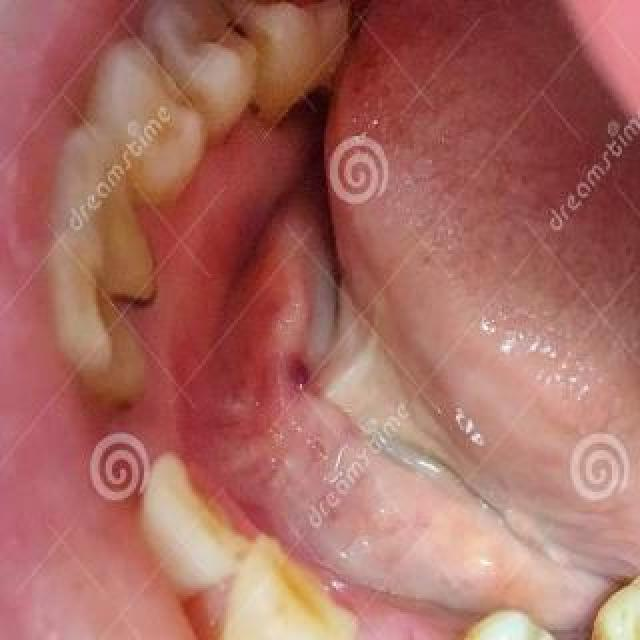calculus: (106, 263, 166, 323)
cavities: (216, 3, 298, 123), (420, 606, 558, 640), (592, 552, 640, 640)
missing: (70, 370, 186, 480), (338, 584, 434, 640), (542, 586, 624, 640)
